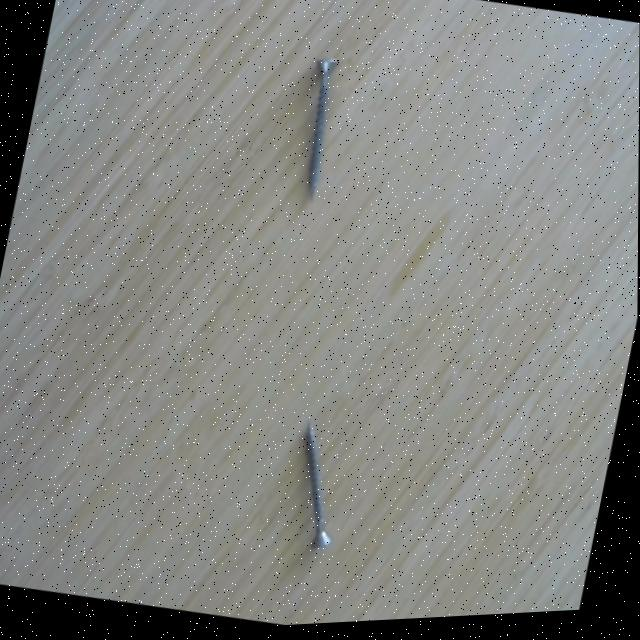Black screw: (303, 56, 343, 214), (301, 419, 337, 560)
